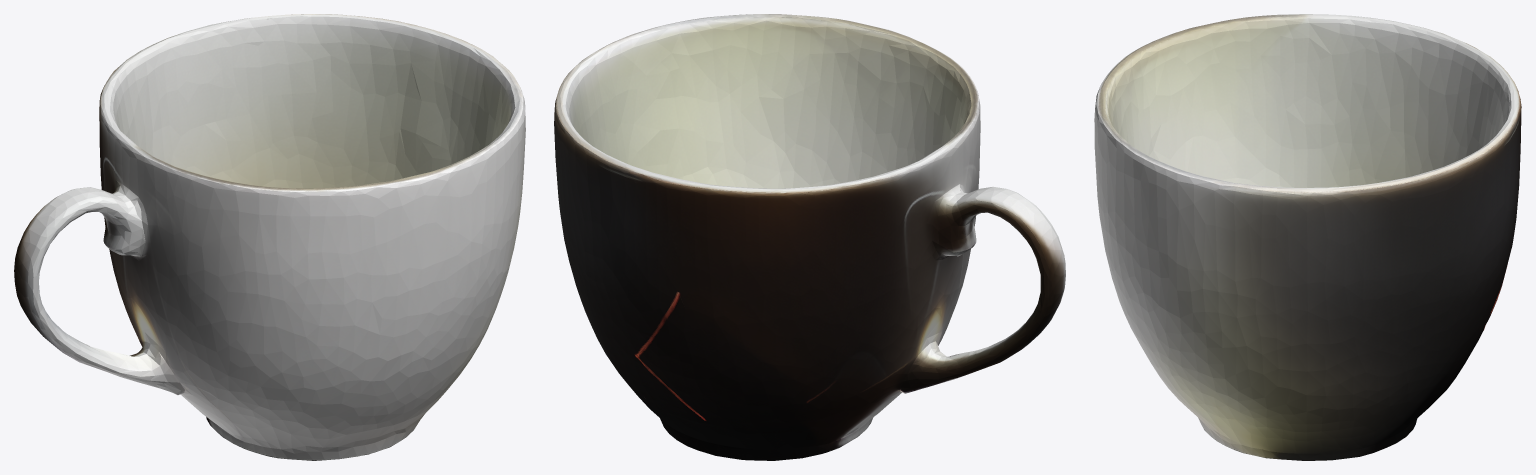
The model's file is porcelain-coffee-cup-futuristic.jpeg.glb.
3 renders of one model, left to right at view 1: azimuth 30°, elevation 25°; view 2: azimuth 150°, elevation 25°; view 3: azimuth 270°, elevation 25°, orthographic.
Visible parts, largest first — view 1: world; view 2: world; view 3: world.
Part boxes in pixels (x1=…): world: x1=14, y1=14, x2=525, y2=460; world: x1=554, y1=14, x2=1065, y2=460; world: x1=1094, y1=14, x2=1521, y2=460.
Size of the model in its own units: 1 by 0.6321 by 0.7729.
Materials: 1 (1 with a texture image).
